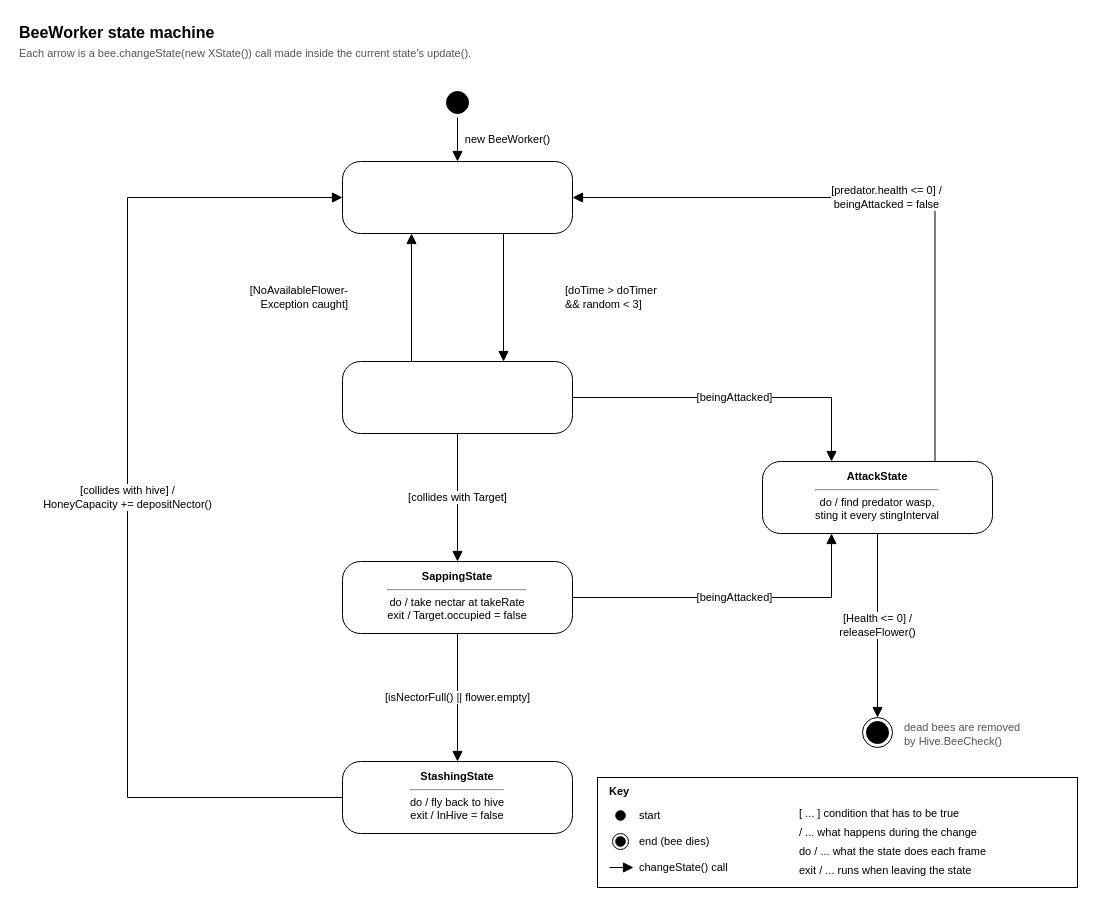
The diagram is 1095 pixels wide and 905 high, and some of its shapes have lost their labels. The centre of each missing label's shape, as x and y in pixels:
FetchingState do / pick a free flower if no Target, then fly towards it: (457,397)
RestingState do / roam in a random direction: (457,197)
